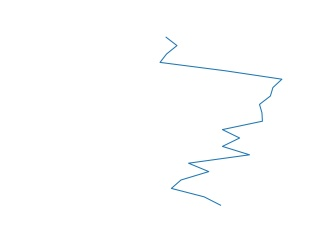floodPlain: (158, 35, 285, 210)
